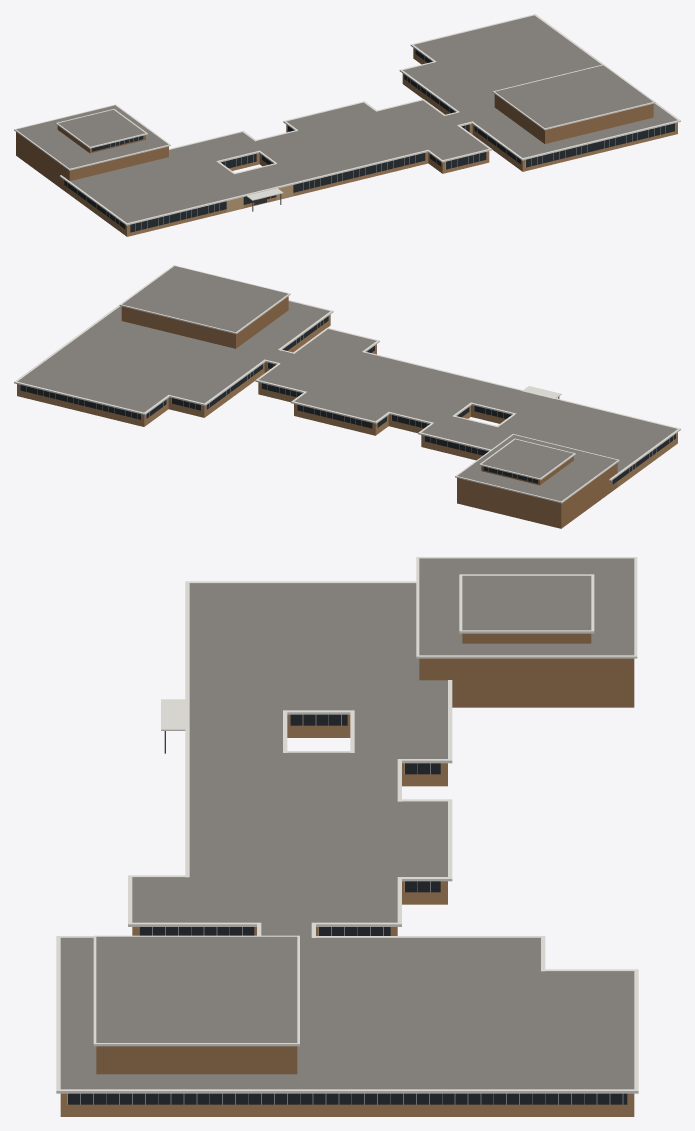
Rendered from horace-mann-high-school.glb.
The picture shows the model from 3 angles, top to bottom: view 1: azimuth 30°, elevation 25°; view 2: azimuth 150°, elevation 25°; view 3: azimuth 270°, elevation 25°; orthographic projection. The views are drawn at different scales.
Visible parts, largest first — view 1: horace_roof, horace_trim, horace_glass, horace_brick2, horace_brick, horace_sash, horace_screen; view 2: horace_roof, horace_brick2, horace_trim, horace_brick, horace_glass, horace_sash; view 3: horace_roof, horace_trim, horace_brick2, horace_brick, horace_glass, horace_sash.
Boxes of the visible parts, bbox=[...] form: horace_roof: bbox=[16, 15, 677, 222]; horace_trim: bbox=[14, 14, 680, 225]; horace_glass: bbox=[64, 49, 674, 232]; horace_brick2: bbox=[16, 94, 653, 194]; horace_brick: bbox=[62, 48, 677, 236]; horace_sash: bbox=[67, 49, 665, 230]; horace_screen: bbox=[226, 185, 293, 211]; horace_roof: bbox=[18, 266, 677, 501]; horace_brick2: bbox=[121, 296, 617, 528]; horace_trim: bbox=[14, 265, 680, 503]; horace_brick: bbox=[17, 314, 677, 487]; horace_glass: bbox=[20, 316, 675, 484]; horace_sash: bbox=[20, 319, 673, 484]; horace_roof: bbox=[60, 558, 634, 1089]; horace_trim: bbox=[56, 557, 638, 1093]; horace_brick2: bbox=[96, 633, 634, 1074]; horace_brick: bbox=[60, 714, 634, 1116]; horace_glass: bbox=[68, 714, 627, 1104]; horace_sash: bbox=[67, 714, 623, 1104].
Bounding box in the file's own units: 168 × 10.05 × 81.2.
